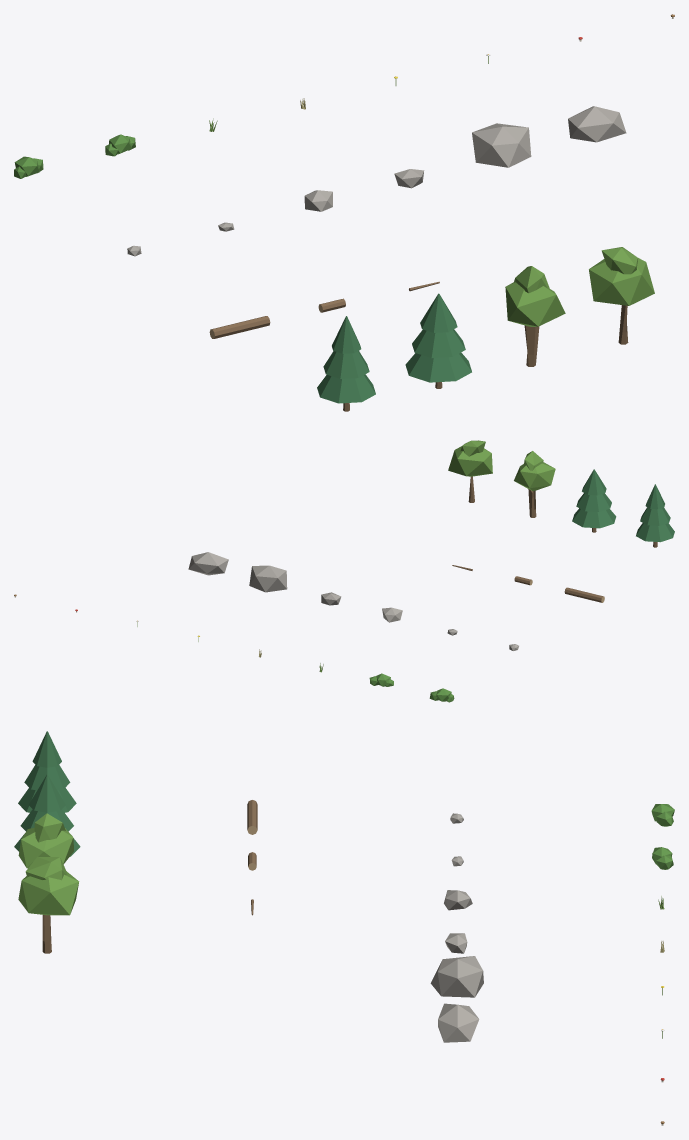
Rendered from survival_models.glb.
3 views of the same model, one above another, from view 1: azimuth 30°, elevation 25°; view 2: azimuth 150°, elevation 25°; view 3: azimuth 270°, elevation 25° (orthographic). The views are drawn at different scales.
Parts seen in each view (by area): view 1: pine_b_top, broad_b_top, pine_a_top, broad_a_top, rock_l1, rock_l2, log_long; view 2: pine_b_top, broad_b_top, pine_a_top, broad_a_top, rock_l1, rock_l2; view 3: broad_b_top, broad_a_top, pine_a_top, rock_l1, pine_b_top, rock_l2.
Part boxes in pixels (x1,y1,x2,y2): pine_b_top: (405, 293, 471, 382); broad_b_top: (589, 247, 654, 332); pine_a_top: (317, 316, 375, 403); broad_a_top: (505, 266, 565, 354); rock_l1: (472, 123, 531, 167); rock_l2: (568, 106, 626, 142); log_long: (209, 316, 270, 338); pine_b_top: (572, 469, 616, 528); broad_b_top: (448, 440, 492, 494); pine_a_top: (636, 484, 674, 542); broad_a_top: (514, 451, 555, 510); rock_l1: (249, 565, 287, 592); rock_l2: (188, 552, 228, 575); broad_b_top: (18, 857, 79, 941); broad_a_top: (18, 813, 73, 868); pine_a_top: (18, 731, 76, 812); rock_l1: (430, 956, 483, 997); pine_b_top: (14, 774, 80, 856); rock_l2: (438, 1003, 479, 1042).
Size of the model in its own units: 29.28 by 4.13 by 25.78.
